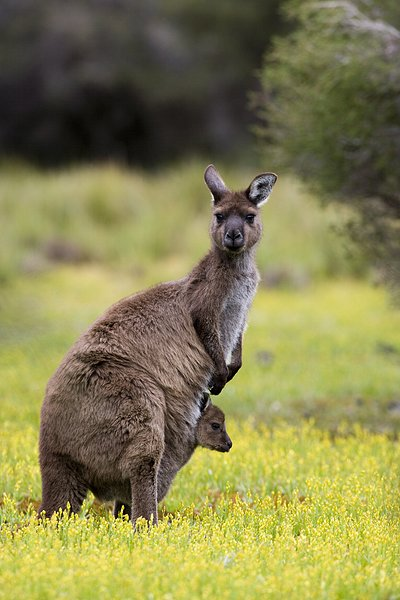kangaroo: (28, 164, 285, 526), (189, 393, 237, 460)
